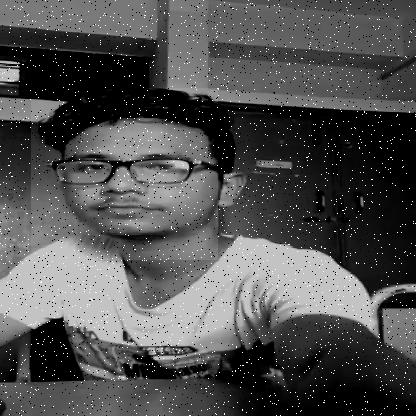Normal: (31, 88, 218, 260)
